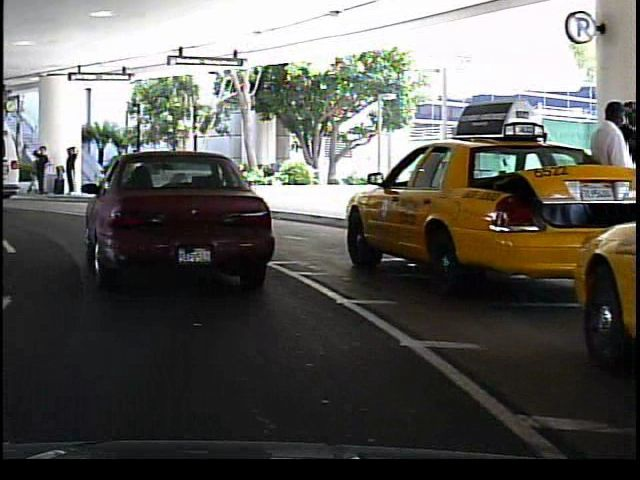person: (581, 101, 629, 263), (607, 97, 640, 252), (119, 144, 148, 202), (28, 141, 50, 200), (59, 142, 78, 199)
